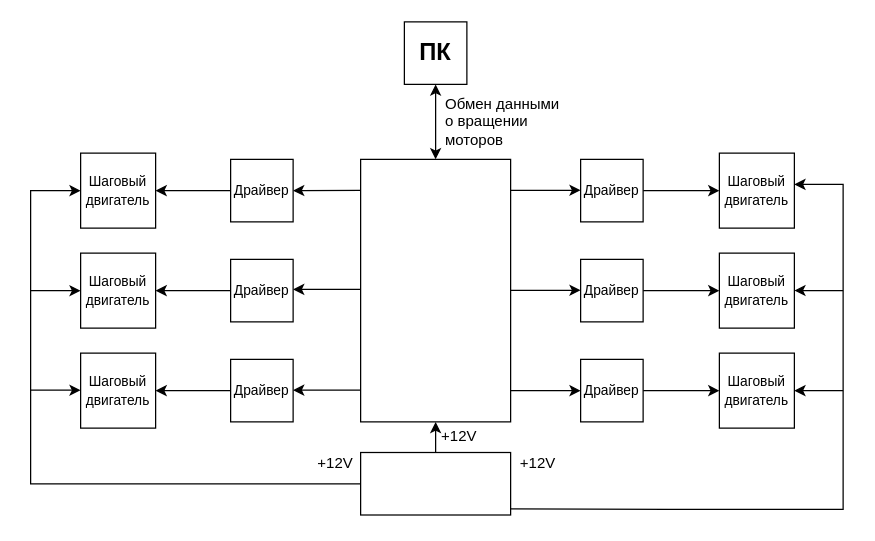
Image size: 875x541. Some labels were removed from this diagram. Here are the shapes that lost their labels. From the top down, the box of each, then its label:
(359, 158, 511, 422): Микроконтроллер
(359, 451, 511, 515): Аккумулятор
